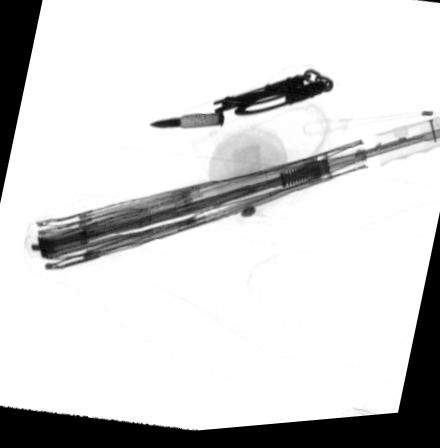Bullet: (148, 116, 223, 132)
HandCuffs: (211, 73, 337, 121)
